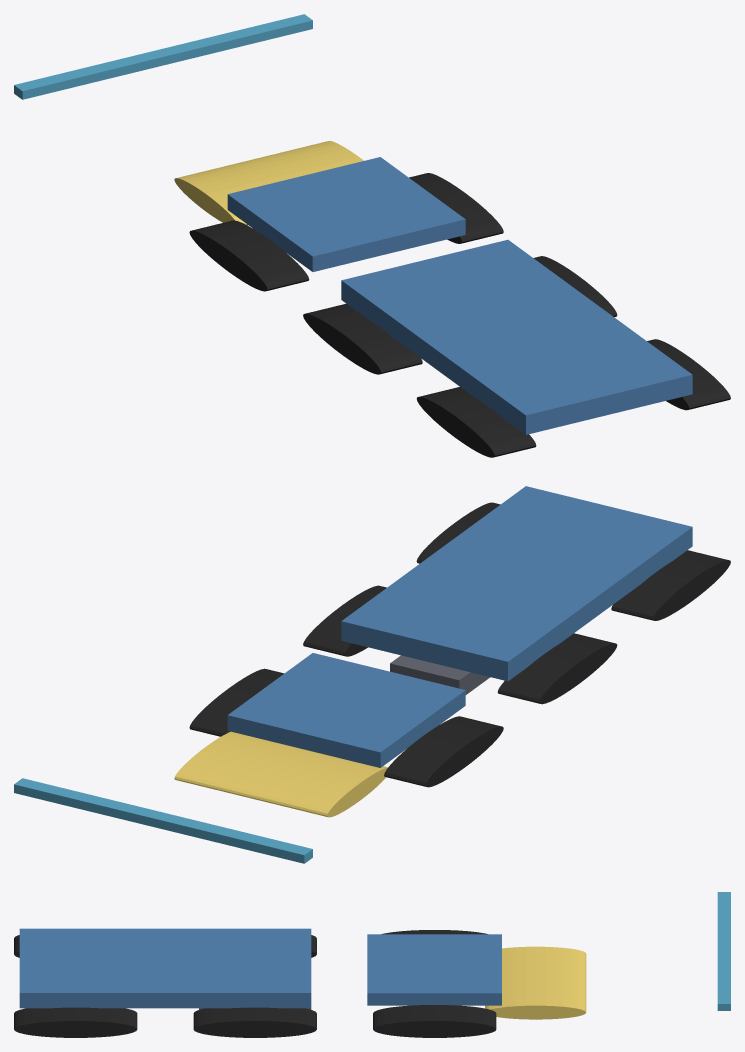
File: AL_PioneerHarvester_LOD2.glb
The picture shows the model from 3 angles, top to bottom: view 1: azimuth 30°, elevation 25°; view 2: azimuth 150°, elevation 25°; view 3: azimuth 270°, elevation 25°; orthographic projection. The views are drawn at different scales.
Parts seen in each view (by area): view 1: Cube.003, Cube.001, Cylinder.006, Cube.002, Cylinder.002, Cylinder, Cylinder.001, Cylinder.005, Cylinder.003, Cylinder.004; view 2: Cube.003, Cube.001, Cylinder.006, Cube.002, Cylinder.002, Cylinder.001, Cylinder, Cylinder.005, Cylinder.004, Cube, Cylinder.003; view 3: Cube.003, Cube.001, Cylinder.006, Cylinder.005, Cylinder.003, Cylinder.004, Cube.002, Cylinder.002.
Part boxes in pixels (x1,y1,x2,y2): Cube.003: (341,239,692,434); Cube.001: (227,157,465,271); Cylinder.006: (174,141,363,225); Cube.002: (14,14,312,99); Cylinder.002: (189,220,309,291); Cylinder: (416,387,536,457); Cylinder.001: (303,303,422,374); Cylinder.005: (409,173,503,243); Cylinder.003: (647,339,730,410); Cylinder.004: (533,256,617,317); Cube.003: (341,486,692,681); Cube.001: (227,653,465,767); Cylinder.006: (174,731,387,817); Cube.002: (14,778,312,863); Cylinder.002: (384,716,503,787); Cylinder.001: (497,633,617,704); Cylinder: (611,550,730,620); Cylinder.005: (189,668,284,736); Cylinder.004: (303,585,386,656); Cube: (390,655,490,694); Cylinder.003: (416,502,500,563); Cube.003: (19,928,311,1008); Cube.001: (367,934,501,1005); Cylinder.006: (485,946,586,1019); Cylinder.005: (373,1005,496,1037); Cylinder.003: (14,1007,137,1037); Cylinder.004: (193,1007,316,1037); Cube.002: (717,892,730,1010); Cylinder.002: (381,930,487,934).
Size of what is drawn, in the model's own units: 10.87 by 2.36 by 29.39.
